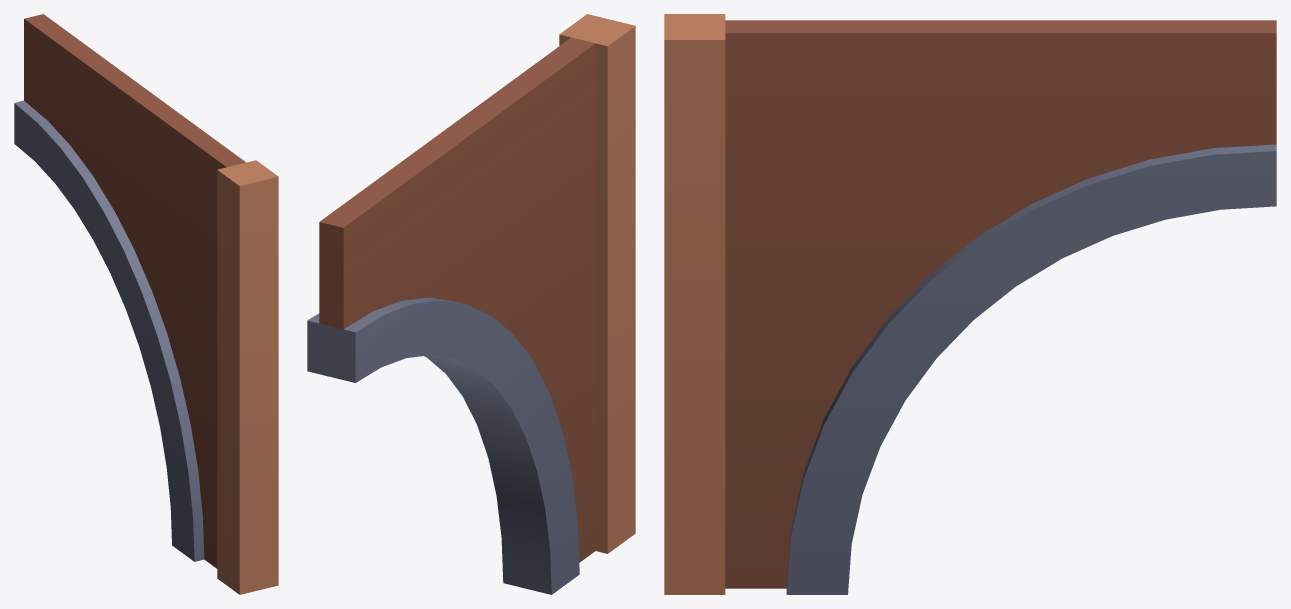
File: wall-wood-arch-top.glb
3 renders of one model, left to right at view 1: azimuth 30°, elevation 25°; view 2: azimuth 150°, elevation 25°; view 3: azimuth 270°, elevation 25°, orthographic. The views are drawn at different scales.
Visible parts, largest first — view 1: wall-wood-arch-top; view 2: wall-wood-arch-top; view 3: wall-wood-arch-top.
Boxes of the visible parts, left/top/right/bottom form: wall-wood-arch-top: left=14, top=14, right=278, bottom=594; wall-wood-arch-top: left=307, top=14, right=635, bottom=594; wall-wood-arch-top: left=664, top=14, right=1276, bottom=594.
Bounding box in the file's own units: 0.1 × 1 × 1.
Materials: 1 (1 with a texture image).
